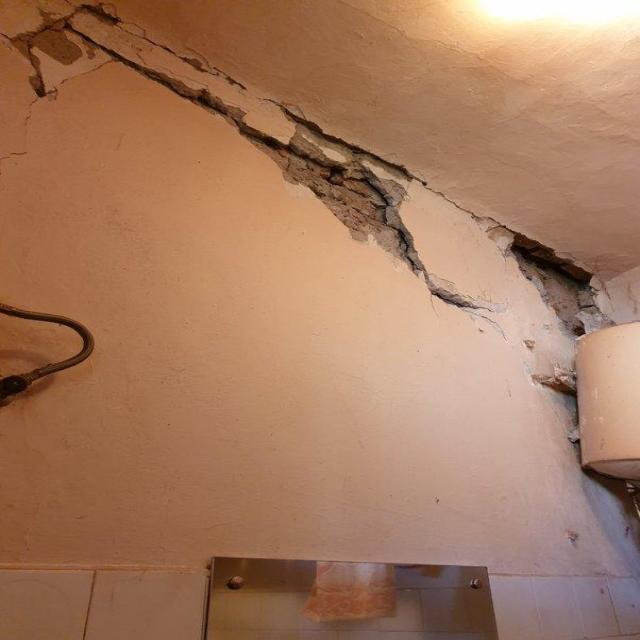damage: (204, 112, 508, 285), (478, 196, 640, 364), (3, 0, 226, 113)
